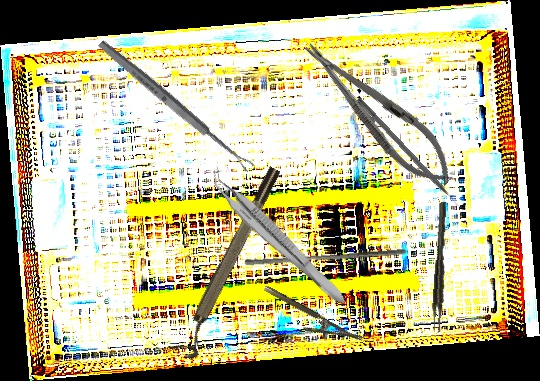Fixation Ring: (168, 164, 293, 362)
Hook Surgical: (355, 97, 463, 212)
Needle Holder: (291, 26, 467, 200), (256, 283, 364, 358)
Pusher: (243, 242, 408, 272)
Surgical Spoon: (96, 38, 255, 174)
Tissue Forceps: (200, 165, 356, 309), (430, 201, 451, 334)
